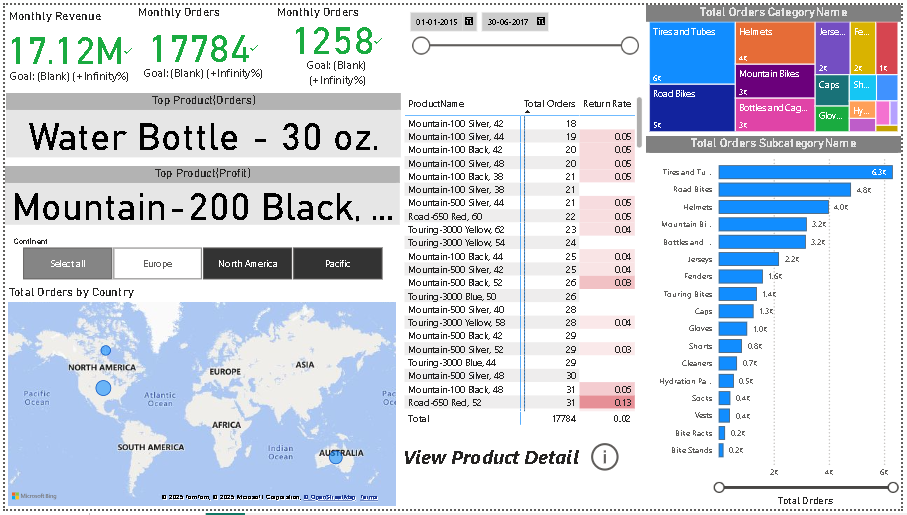

The dashboard page shown, as its layout file describes it:
{"tool":"powerbi","page":{"name":"Exec Summary","canvas":[1280,720],"ordinal":0},"visuals":[{"type":"barChart","title":"Total Orders SubcategoryName","fields":{"Y":["Myproject_Sales.Total Orders"],"Category":["Myproject_Product_Subcategories.SubcategoryName"]},"box":[915.5,186.5,364.5,534.2],"z":0},{"type":"treemap","title":"Total Orders CategoryName","fields":{"Group":["Myproject_Product_Categories.CategoryName","Myproject_Product_Subcategories.SubcategoryName"],"Values":["Myproject_Sales.Total Orders"]},"box":[915.5,0,364.5,186.5],"z":1000},{"type":"pivotTable","fields":{"Values":["Myproject_Sales.Total Orders","Myproject_Returns.Return Rate"],"Rows":["Myproject_Product_Subcategories.SubcategoryName","Myproject_Product_Categories.CategoryName","Myproject_Products_Lookup.ProductName"]},"box":[565.2,125,350.4,478.9],"z":2000},{"type":"slicer","fields":{"Values":["Myproject_Calendar_Lookup.Date"]},"box":[566.1,0,347.7,120.9],"z":3000},{"type":"kpi","title":"Monthly Revenue","fields":{"Indicator":["Myproject_Sales.Total Revenue"],"Goal":["Myproject_Sales.Prev Month Revenue"],"TrendLine":["Myproject_Calendar_Lookup.Start of Month"]},"box":[0,5,184.8,120.9],"z":4000},{"type":"kpi","title":"Monthly Orders","fields":{"TrendLine":["Myproject_Calendar_Lookup.Start of Month"],"Indicator":["Myproject_Sales.Total Orders"],"Goal":["Myproject_Sales.Prev Month Orders"]},"box":[184.8,0,198.2,124.3],"z":5000},{"type":"kpi","title":"Monthly Orders","fields":{"Indicator":["Myproject_Returns.Total Returns"],"TrendLine":["Myproject_Calendar_Lookup.Start of Month"],"Goal":["Myproject_Returns.Prev Month Returns"]},"box":[383,0,181.4,124.3],"z":6000},{"type":"card","title":"Top Product(Orders)","fields":{"Values":["Min(Myproject_Products_Lookup.ProductName)"]},"box":[1.7,126,564.4,92.4],"z":7000},{"type":"card","title":"Top Product(Profit)","fields":{"Values":["Min(Myproject_Products_Lookup.ProductName)"]},"box":[0,230.1,564.4,84],"z":8000},{"type":"map","fields":{"Category":["Myproject_Territories_Loopkup.Country"],"Size":["Myproject_Sales.Total Orders"]},"box":[0,399.8,562.7,320.8],"z":9000},{"type":"slicer","fields":{"Values":["Myproject_Territories_Loopkup.Continent"]},"box":[0,325.9,562.7,73],"z":10000},{"type":"textbox","box":[563.4,619.8,336.3,100.4],"z":11000},{"type":"actionButton","box":[831,619.8,82.8,51.1],"z":12000}]}

Visuals, with their boxes in screenshot pixels (x1, y1, x2, y2), scaled from the page's 1280x720 canvas onto the 907x515 screenshot:
"Total Orders SubcategoryName" barChart: 649:133:906:514
"Total Orders CategoryName" treemap: 649:0:906:133
pivotTable - Myproject_Sales.Total Orders x Myproject_Returns.Return Rate: 400:89:649:432
slicer - Myproject_Calendar_Lookup.Date: 401:0:648:86
"Monthly Revenue" kpi: 0:4:131:90
"Monthly Orders" kpi: 131:0:271:89
"Monthly Orders" kpi: 271:0:400:89
"Top Product(Orders)" card: 1:90:401:156
"Top Product(Profit)" card: 0:165:400:225
map - Myproject_Territories_Loopkup.Country x Myproject_Sales.Total Orders: 0:286:399:514
slicer - Myproject_Territories_Loopkup.Continent: 0:233:399:285
textbox: 399:443:638:514
actionButton: 589:443:648:480
